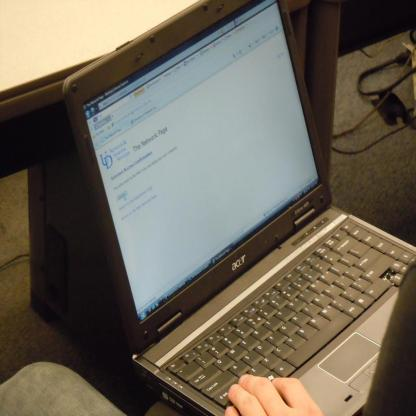board: (47, 16, 416, 415)
